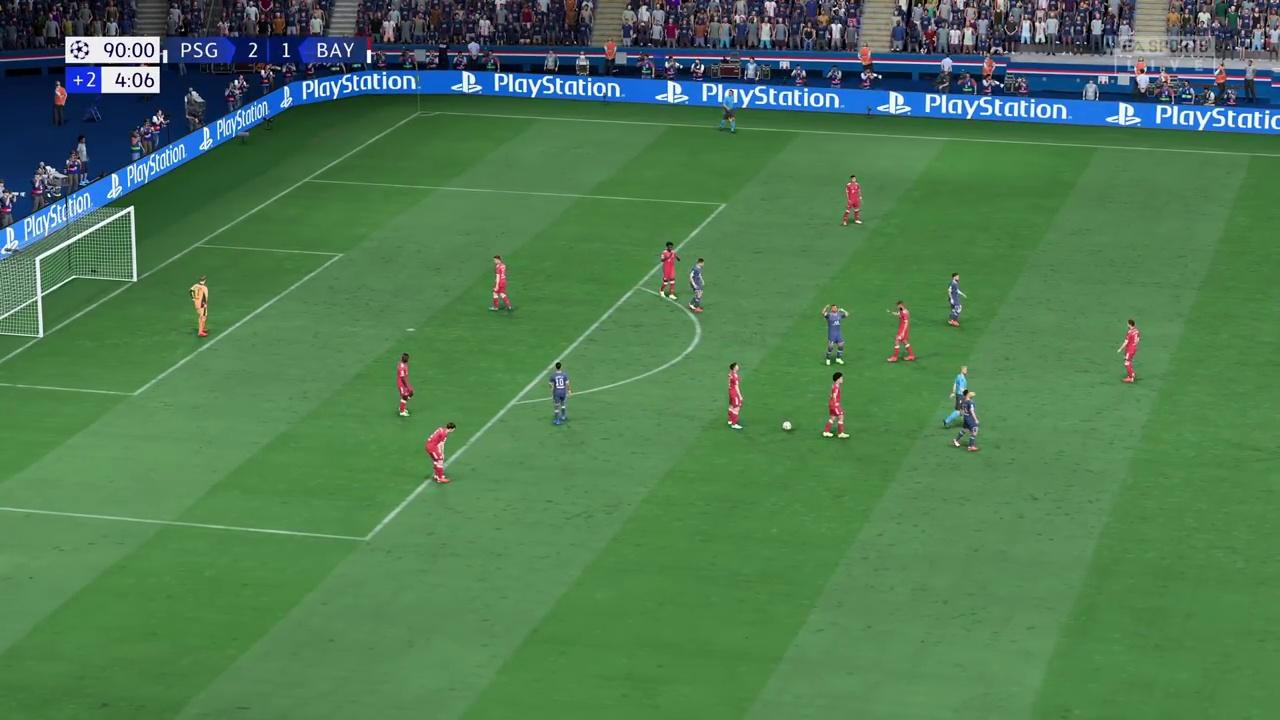scoreboard: (163, 35, 377, 67)
timestamp: (65, 38, 164, 94)
